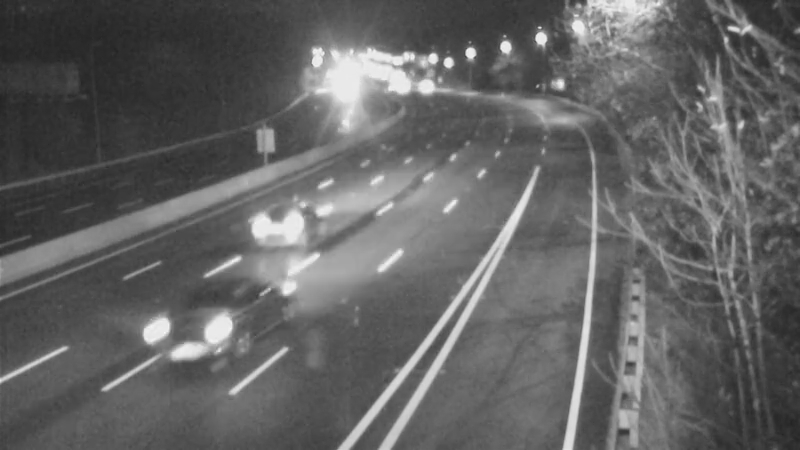vehicle: (132, 275, 242, 385), (254, 171, 334, 251), (396, 59, 446, 109)
